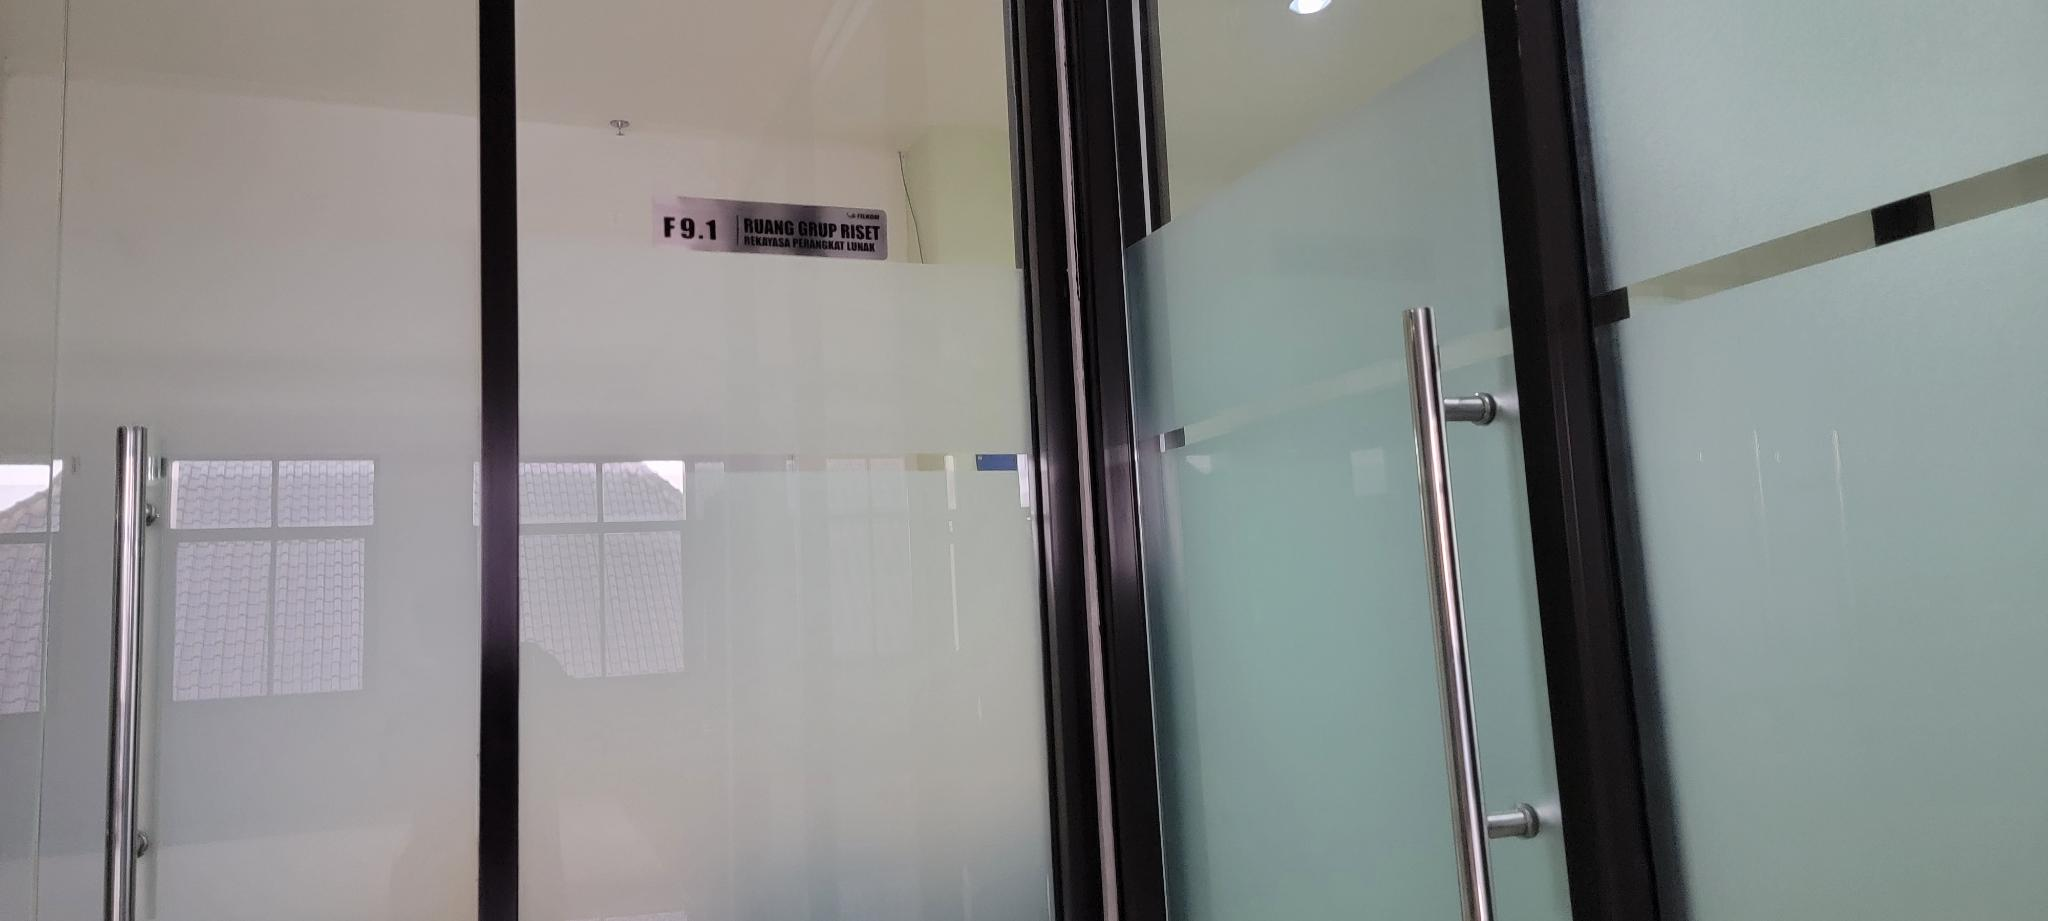plate: (650, 191, 888, 261)
